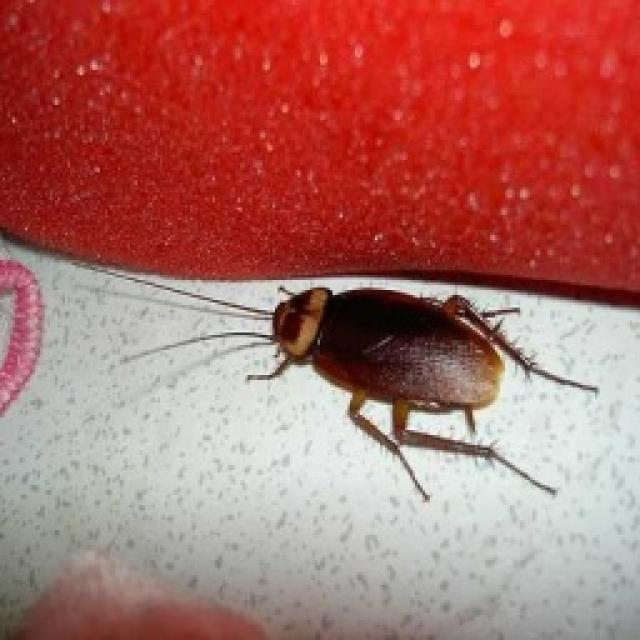cockroach: (240, 168, 570, 506)
